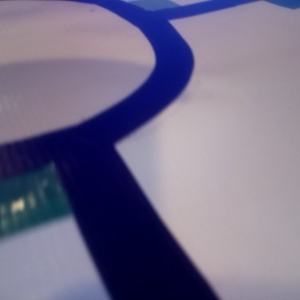bottom_left: (1, 144, 113, 238)
top_right: (128, 1, 181, 18)
